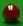brown: (0, 0, 23, 26)
